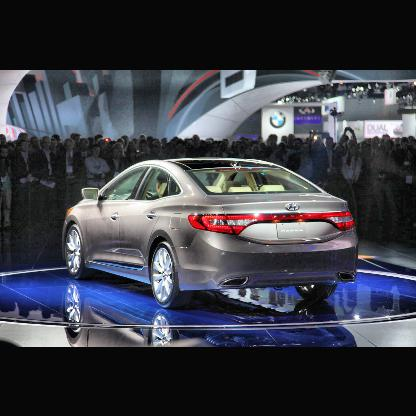Hyundai Azera Sedan 2012: (62, 158, 359, 309)
